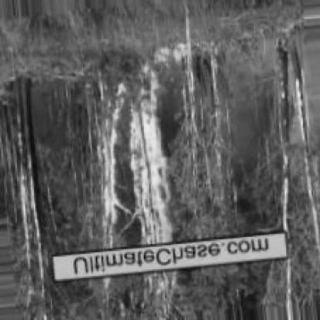Fire: (92, 40, 198, 318)
